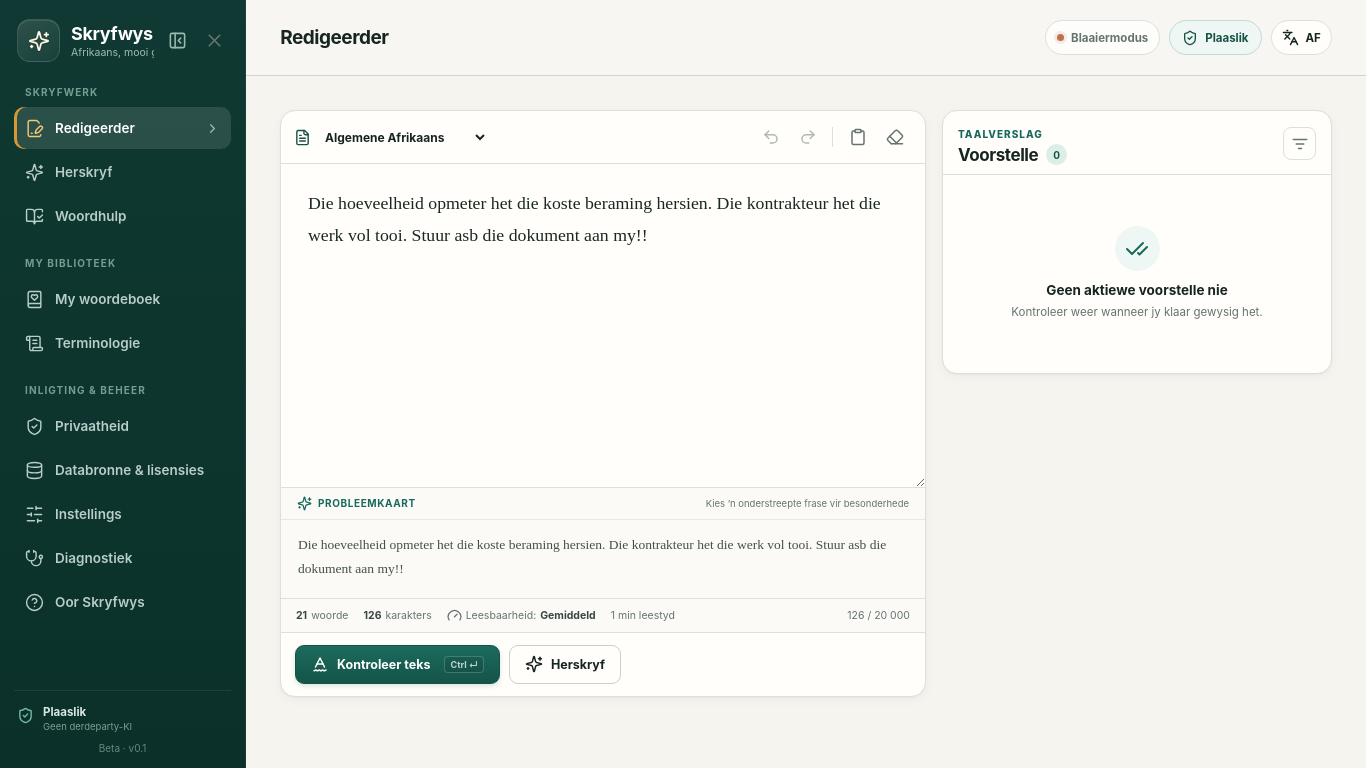
Skryfwys application › accepts all safe deterministic suggestions and records undo history
What coordinates should you click on to do the following:
click the button "Kontroleer teks Ctrl ↵"
I would click on:
 (397, 664)
Its box is [295,644,500,684].
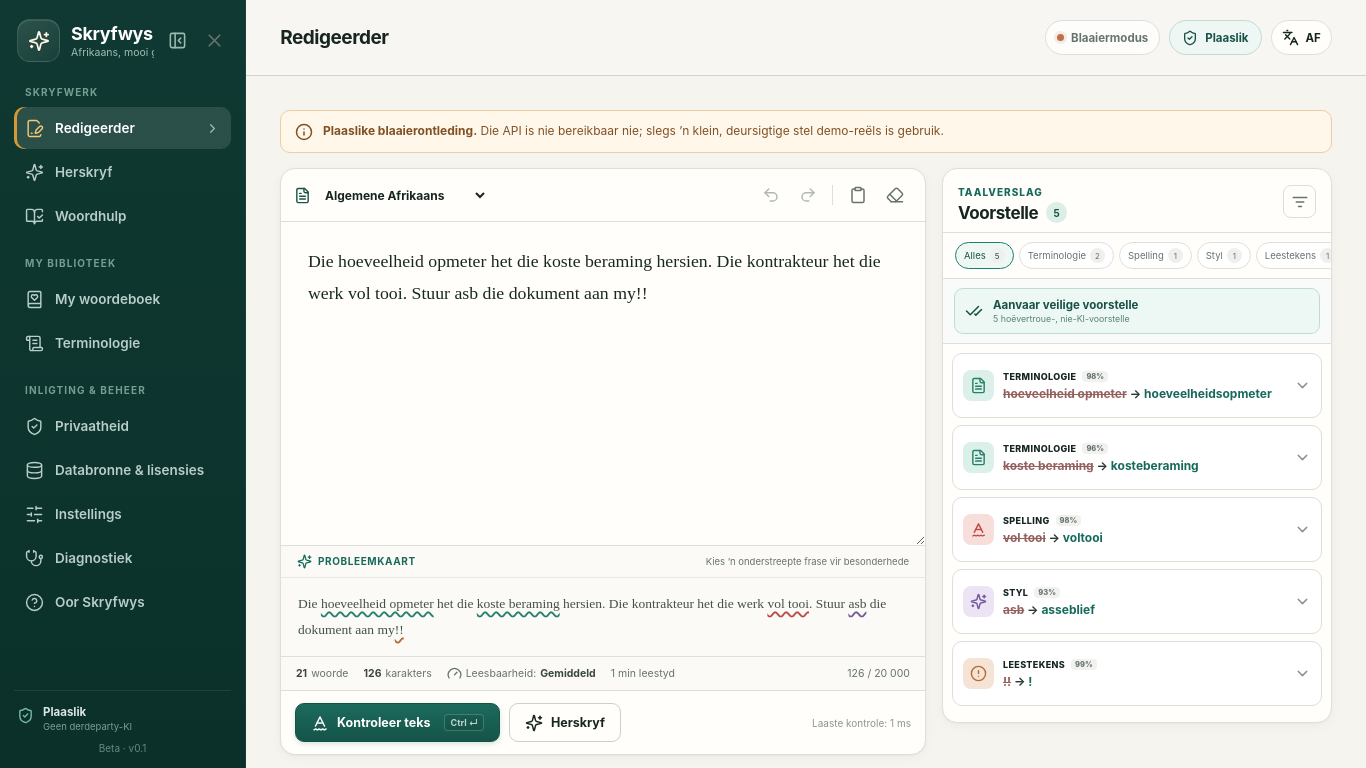
What coordinates should you click on to do the following:
click the button "Aanvaar veilige voorstelle 5 hoëvertroue-, nie-KI-voorstelle"
I would click on:
 (1137, 311)
Its box is [954,288,1320,334].
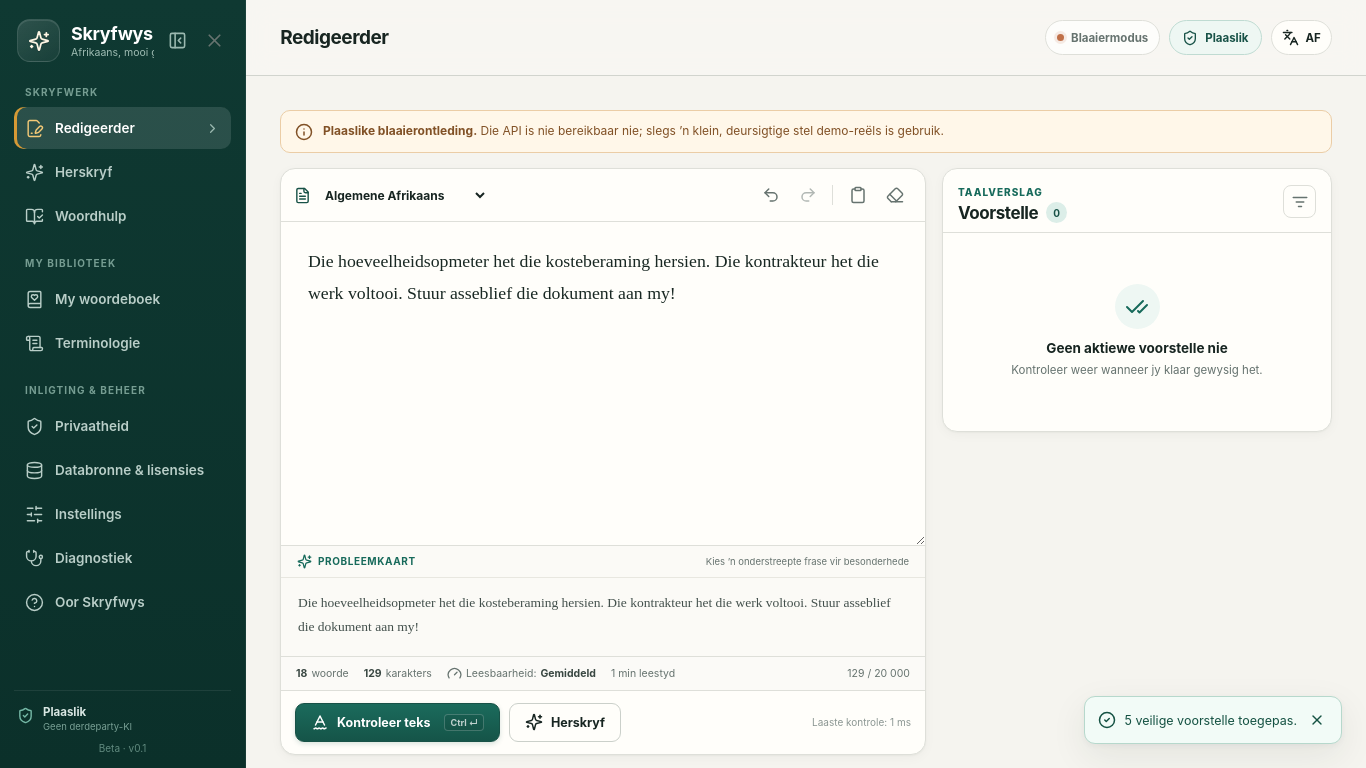
Expected: the button named "Ontdoen" is enabled, [753,178,788,212]
